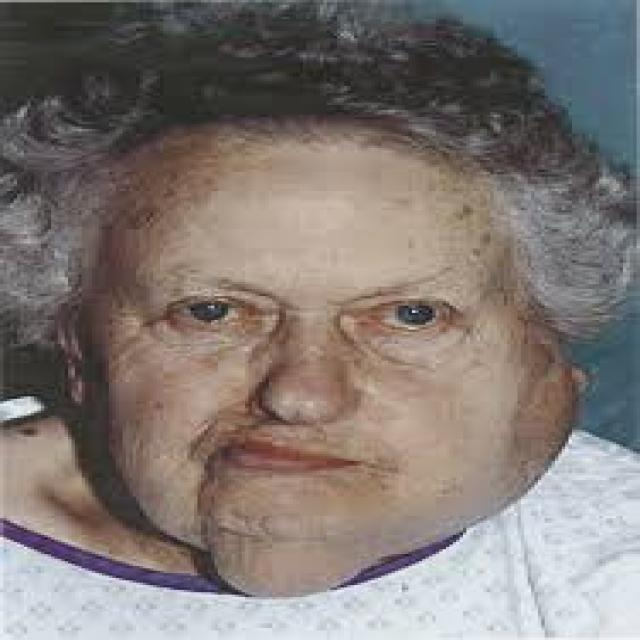stroke_face: (40, 132, 589, 592)
